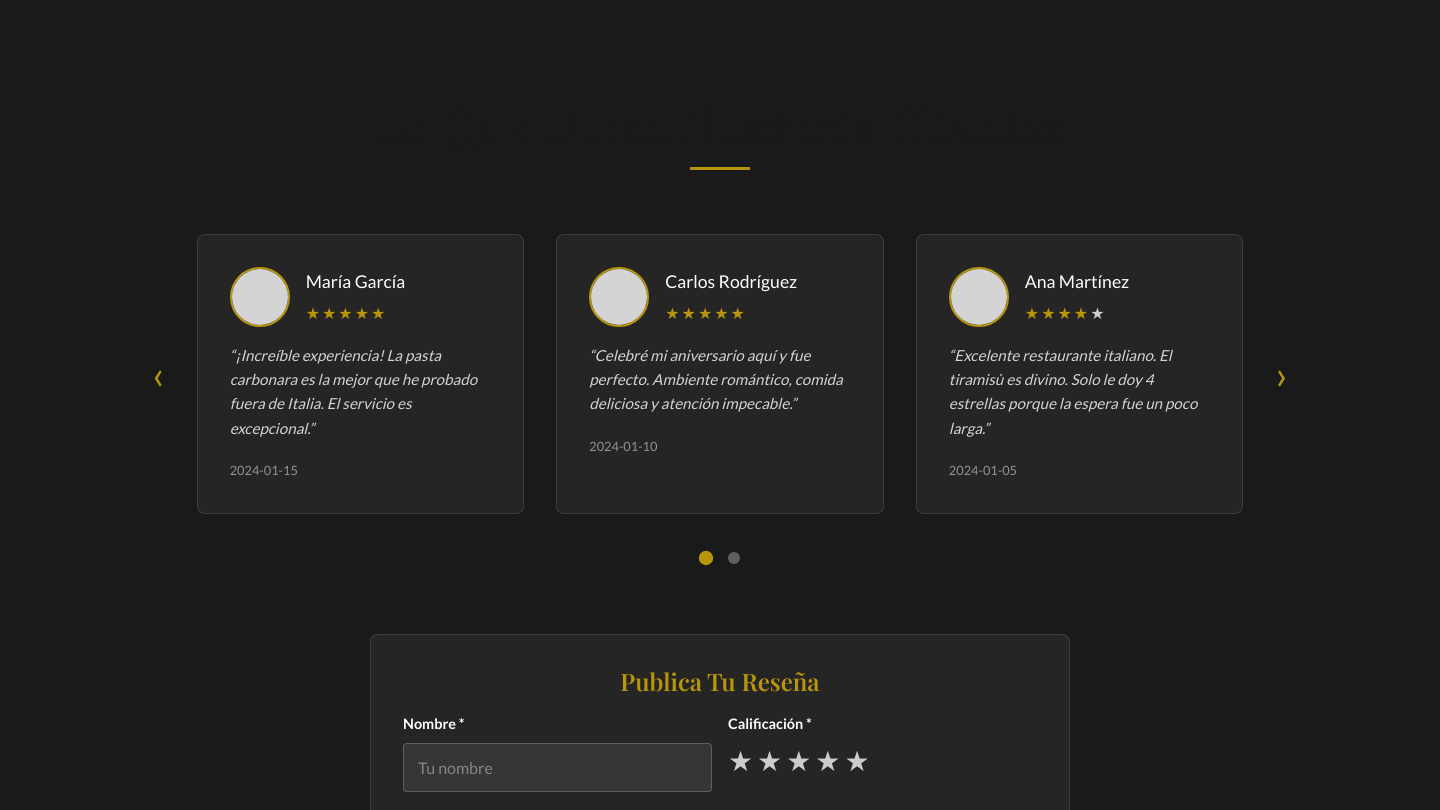
Scenario: Reviews › shows error when name is too short
Step 1. Type "A" into the field labelled "Nombre *" → x=558, y=768, box [403,743,712,792]
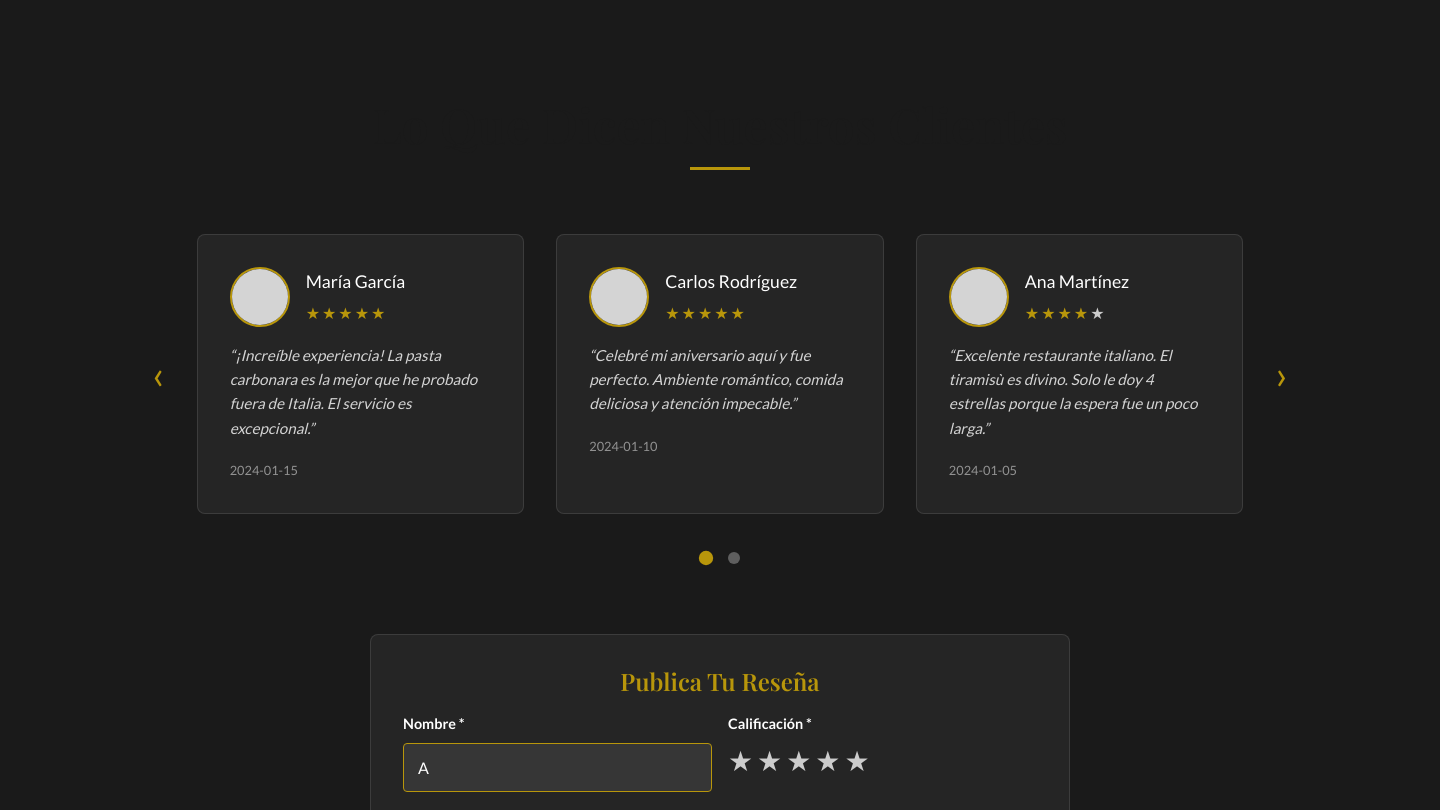
Step 2. Click the button named "3 estrellas" → x=799, y=761, box [786,743,811,778]
(page scrolled)
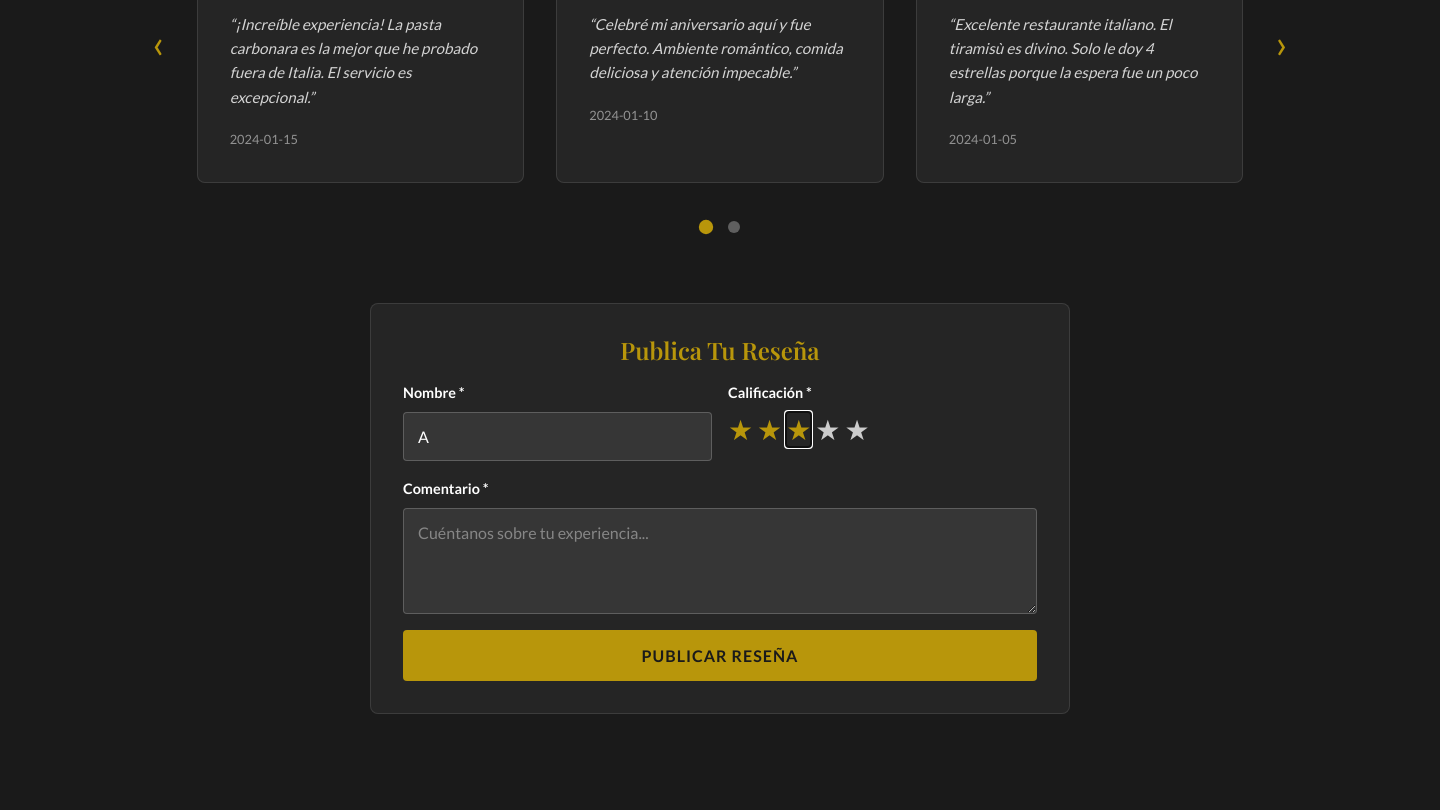
Step 3. Type "Una experiencia fantástica." into the text box labelled "Comentario *" → x=720, y=561, box [403,508,1037,614]
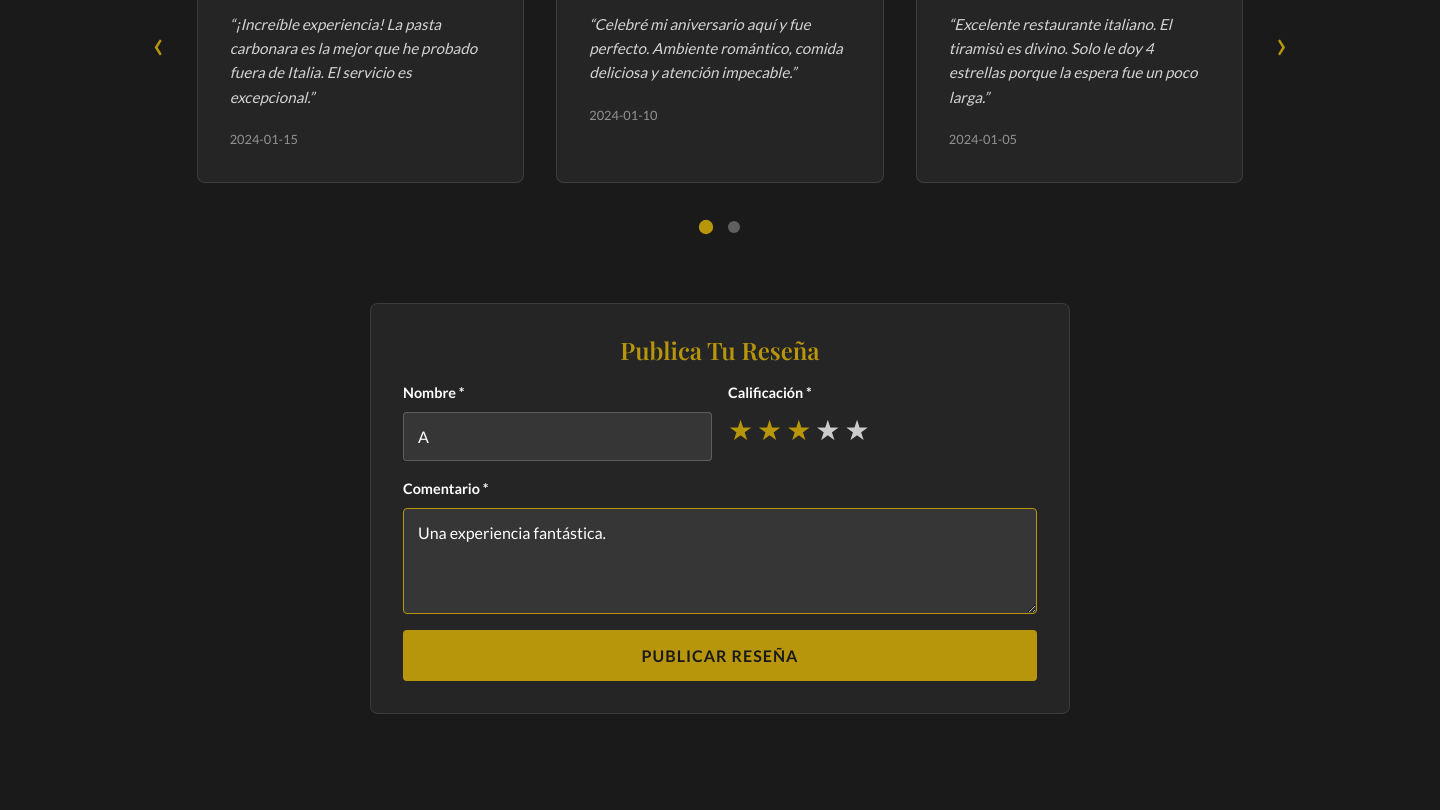
Step 4. Click the button "Publicar Reseña" → x=720, y=656, box [403,630,1037,681]
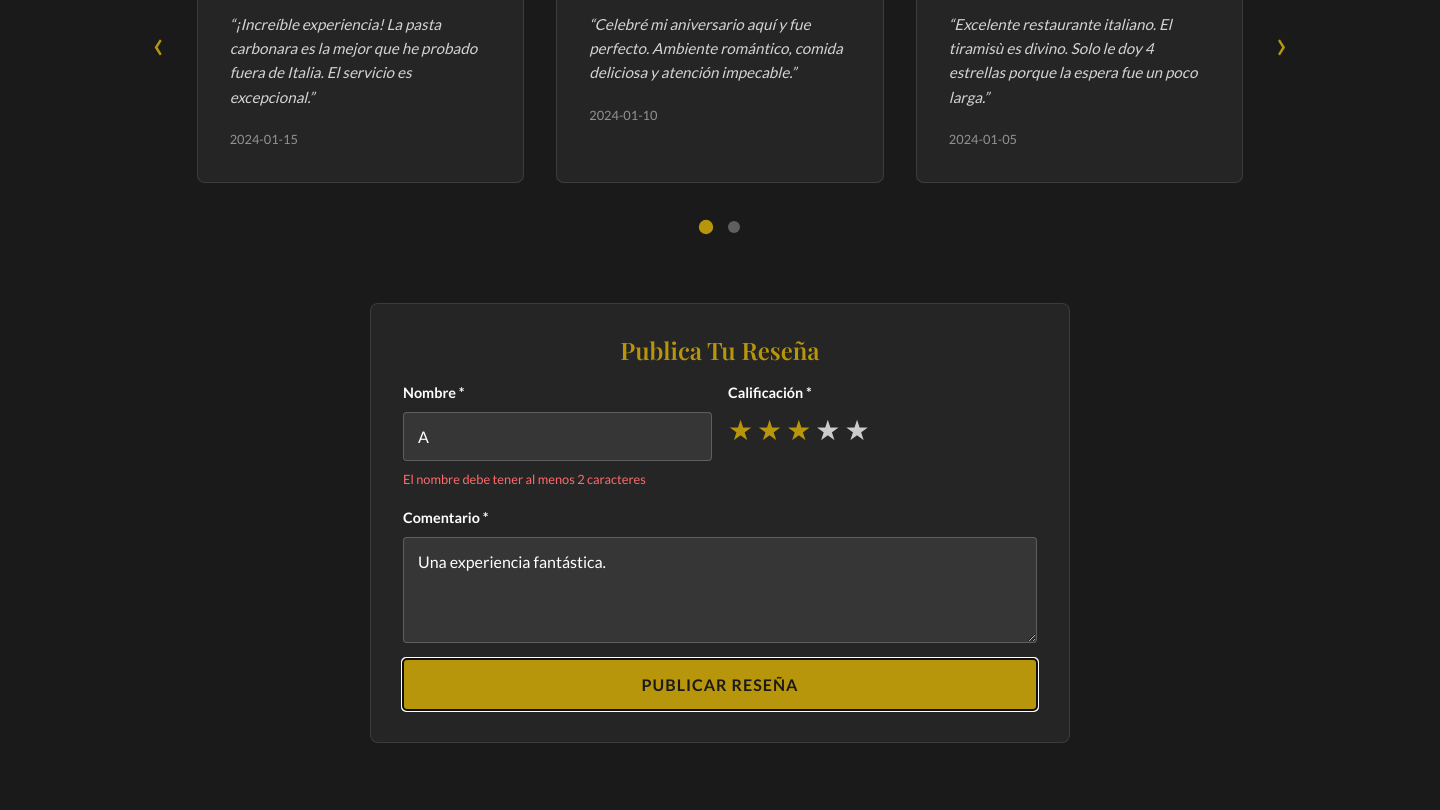
Expected: the text "El nombre debe tener al menos 2 caracteres" is shown, [403,471,646,487]
